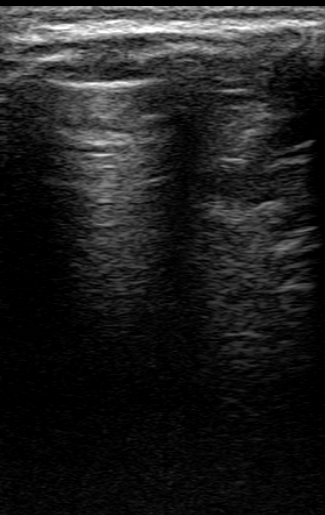irrelevant: (1, 1, 325, 31)
